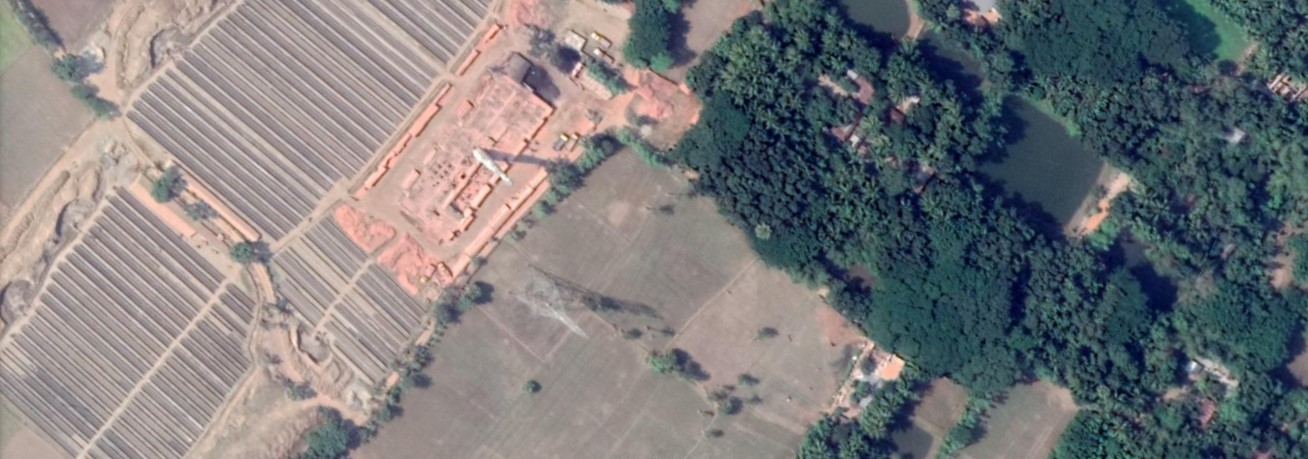kiln: (390, 97, 577, 252)
